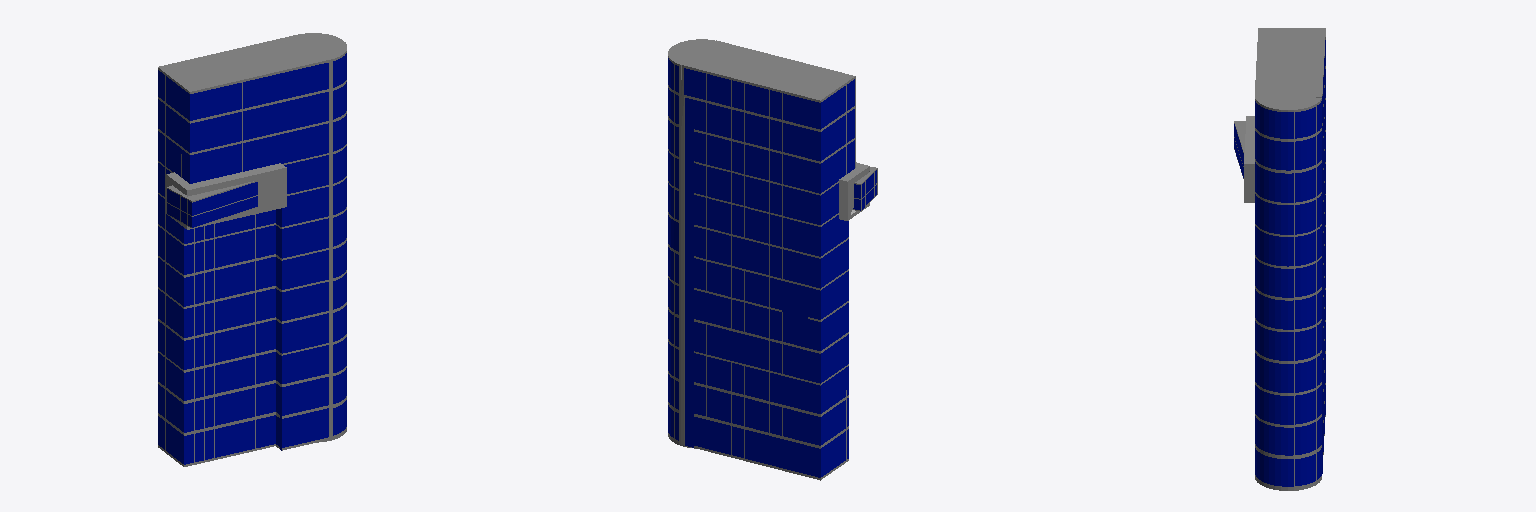
File: skyscraper7.obj
The picture shows the model from 3 angles: view 1: azimuth 30°, elevation 25°; view 2: azimuth 150°, elevation 25°; view 3: azimuth 270°, elevation 25°; orthographic projection.
Visible parts, largest first — view 1: _pCube7; view 2: _pCube7; view 3: _pCube7.
Boxes of the visible parts, box(x1,y1,x2,y2) form: _pCube7: box(158, 33, 346, 466); _pCube7: box(668, 39, 877, 480); _pCube7: box(1234, 28, 1325, 490).
Size of the model in its own units: 18.92 by 37.76 by 8.25.